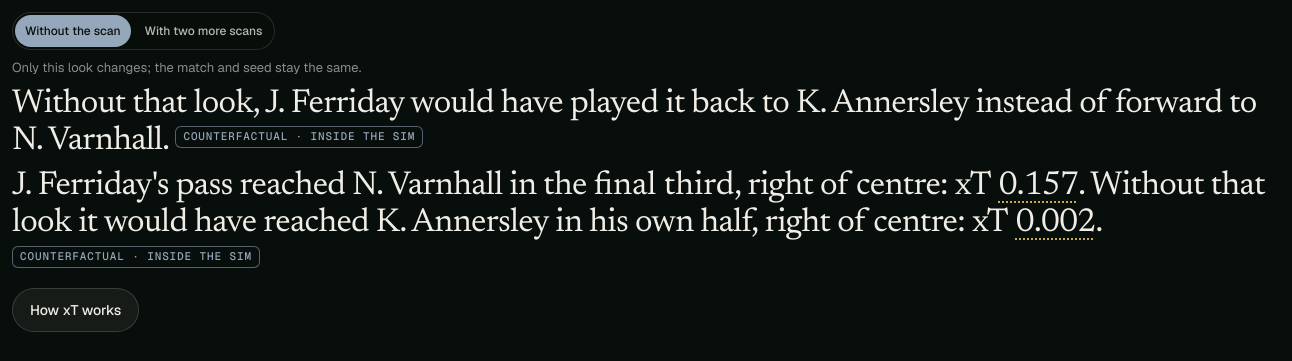
Test: in the verdict › offers With two more looks beside Without the look, and shows its verified lines
The width and height of the screenshot is (1292, 361).
Click the button "With two more scans" at (204, 31), box x1=135 y1=15 x2=272 y2=47
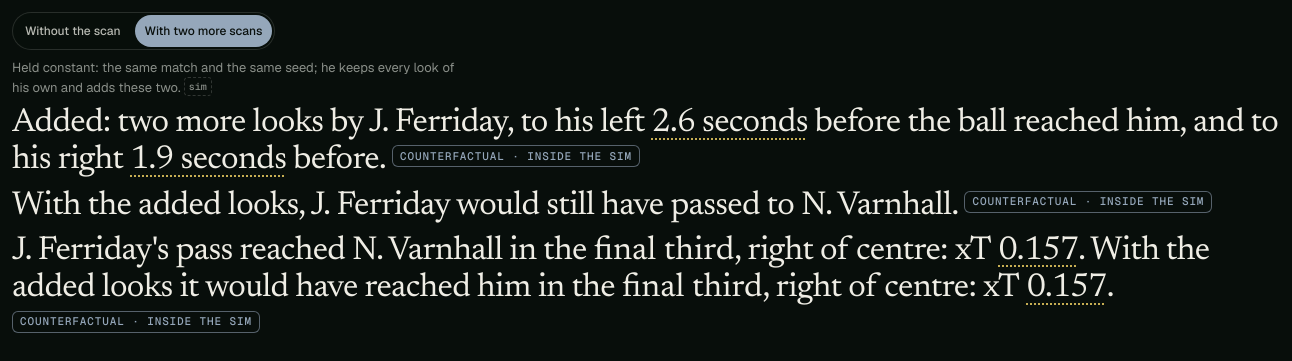
Expected: the text "Added: two more looks by J. Ferriday, to his left 2.6 seconds before the ball reached him, and to his right 1.9 seconds before." is shown, x1=12 y1=105 x2=1291 y2=180
Expected: the text "With the added looks, J. Ferriday would still have passed to N. Varnhall." is shown, x1=12 y1=190 x2=958 y2=222
Expected: the text "J. Ferriday's pass reached N. Varnhall in the final third, right of centre: xT 0.157. With the added looks it would have reached him in the final third, right o" is shown, x1=12 y1=233 x2=1291 y2=345
Click the button "Without the scan" at (73, 31), box x1=15 y1=15 x2=131 y2=47
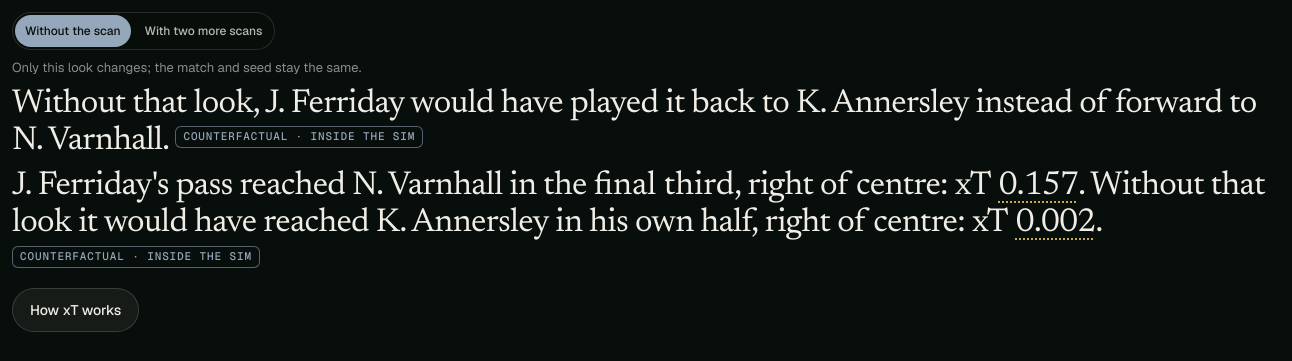
Expected: the text "Only this look changes" is shown, x1=12 y1=59 x2=361 y2=76
